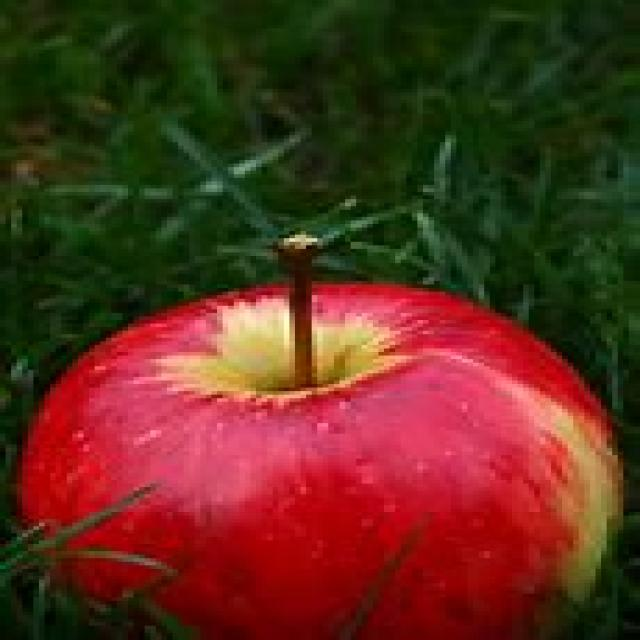apple: (18, 232, 632, 640)
